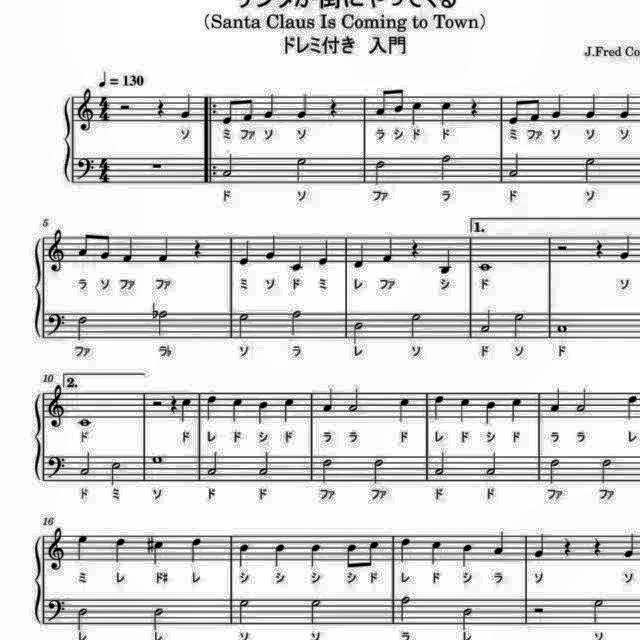Bass-clef: (44, 309, 68, 339), (44, 451, 68, 481), (44, 596, 68, 624), (74, 155, 96, 183)
Diez: (144, 532, 156, 562)
Eighth-note: (344, 540, 361, 572), (75, 226, 92, 258), (364, 538, 381, 570), (219, 94, 235, 126), (98, 230, 114, 262), (374, 88, 390, 120), (506, 94, 522, 124), (392, 84, 406, 116), (242, 93, 256, 123), (528, 93, 542, 123)
Full-note: (76, 414, 96, 430), (476, 261, 496, 275), (554, 320, 570, 336), (148, 453, 164, 467)
Half-note: (408, 308, 426, 340), (287, 306, 305, 338), (305, 598, 323, 630), (438, 152, 456, 184), (150, 604, 170, 632), (235, 596, 253, 626), (581, 155, 599, 185), (317, 455, 335, 485), (597, 455, 615, 485), (292, 154, 308, 186), (588, 592, 604, 624), (255, 448, 272, 478), (369, 458, 386, 488), (458, 605, 476, 633), (219, 152, 237, 180), (505, 152, 523, 180), (234, 312, 250, 343), (74, 312, 90, 343), (77, 447, 93, 477), (396, 594, 412, 624), (372, 157, 388, 187), (548, 458, 564, 488), (512, 309, 528, 339), (108, 458, 124, 487), (346, 388, 362, 417), (74, 604, 90, 632), (480, 306, 496, 334), (432, 449, 448, 477), (573, 386, 589, 414), (206, 450, 222, 478), (156, 309, 170, 341), (484, 452, 500, 480), (350, 321, 366, 347)
Half-rest: (147, 158, 165, 174), (530, 602, 546, 618), (149, 398, 167, 410), (116, 100, 132, 112), (554, 242, 570, 254)
Quarter-note: (620, 530, 640, 562), (187, 534, 206, 566), (438, 246, 457, 278), (110, 536, 130, 566), (379, 232, 396, 266), (157, 233, 175, 265), (395, 534, 413, 566), (530, 528, 548, 560), (236, 236, 254, 268), (121, 234, 139, 266), (270, 542, 290, 570), (203, 392, 220, 424), (623, 391, 640, 423), (429, 392, 446, 424), (427, 538, 445, 568), (618, 232, 636, 262), (438, 97, 456, 127), (490, 527, 508, 557), (152, 537, 170, 567), (74, 532, 90, 564), (618, 90, 634, 122), (584, 90, 600, 122), (352, 240, 368, 272), (288, 242, 304, 274), (316, 237, 332, 269), (509, 396, 526, 426), (230, 395, 247, 425), (178, 91, 195, 121), (178, 396, 195, 426), (280, 396, 298, 424), (235, 542, 253, 570), (458, 541, 476, 569), (305, 542, 323, 570), (456, 396, 472, 426), (264, 231, 280, 261), (396, 395, 412, 425), (262, 92, 278, 122), (550, 92, 566, 122), (255, 399, 272, 427), (320, 388, 336, 416), (294, 92, 310, 120), (482, 400, 498, 428), (548, 388, 564, 416), (410, 98, 426, 126), (639, 391, 640, 423)
Quarter-rest: (590, 534, 606, 560), (188, 236, 204, 260), (466, 96, 482, 120), (152, 96, 168, 120), (408, 237, 424, 260), (560, 534, 574, 558), (326, 96, 340, 120), (168, 389, 180, 416), (593, 237, 607, 260)
Treble-clef: (44, 227, 68, 277), (44, 524, 68, 574), (46, 384, 70, 432), (75, 88, 97, 136)
